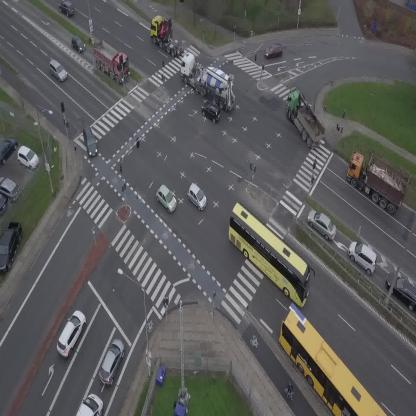bicycle: (284, 382, 295, 401)
bus: (212, 201, 327, 309)
car: (52, 308, 90, 358), (95, 336, 129, 387), (342, 237, 385, 276), (302, 205, 343, 244), (151, 183, 182, 214), (182, 182, 212, 211), (44, 58, 71, 84), (198, 98, 225, 124), (80, 124, 100, 157), (67, 33, 88, 55), (264, 43, 284, 58)
lorry: (170, 48, 247, 114), (277, 87, 329, 147), (84, 36, 138, 87), (143, 10, 186, 63), (76, 393, 103, 416)
